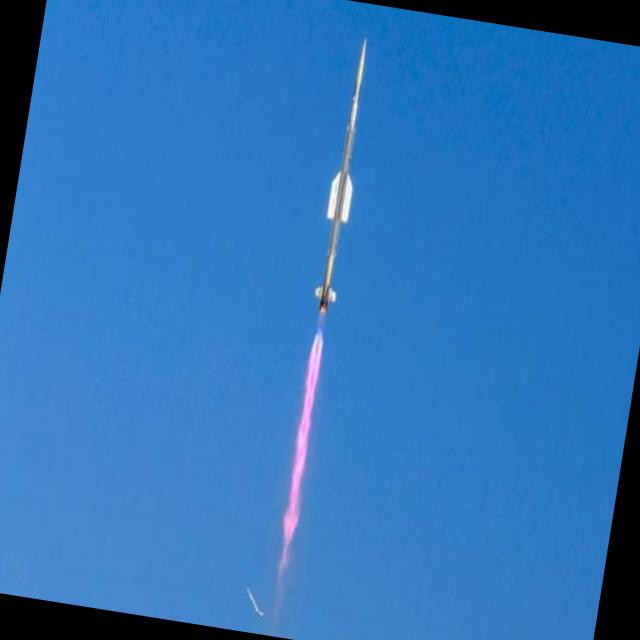rocket: (283, 23, 380, 480)
